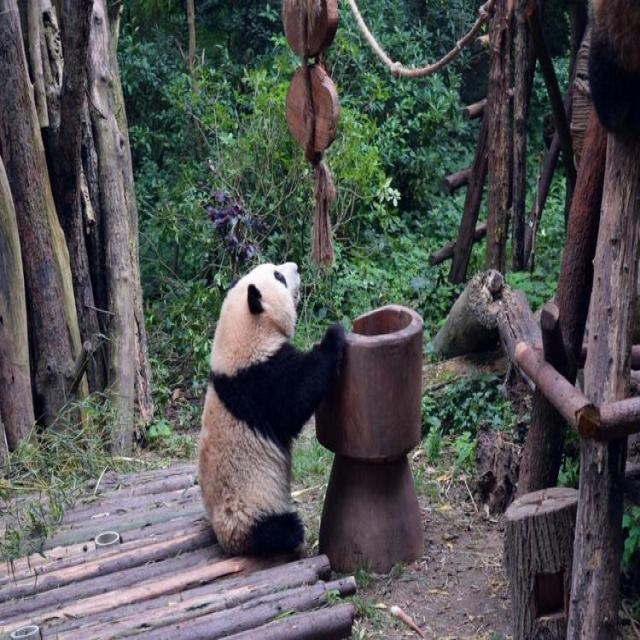panda: (196, 232, 372, 561)
